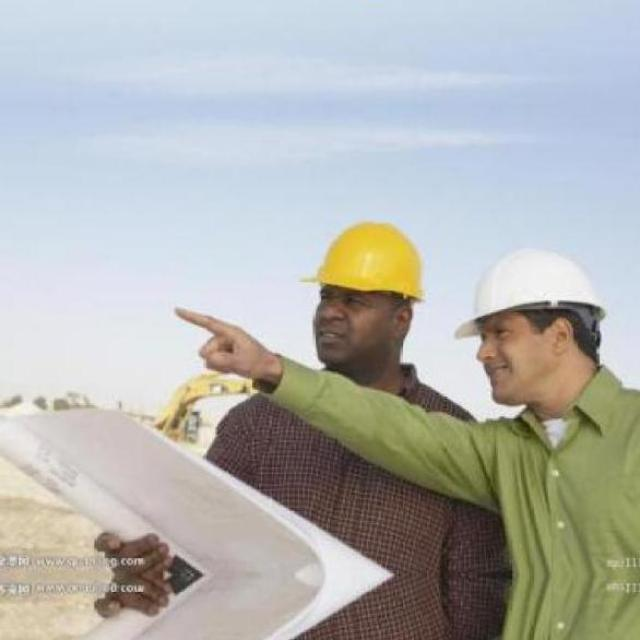white helmet: (455, 251, 619, 331)
yellow helmet: (298, 213, 428, 306)
